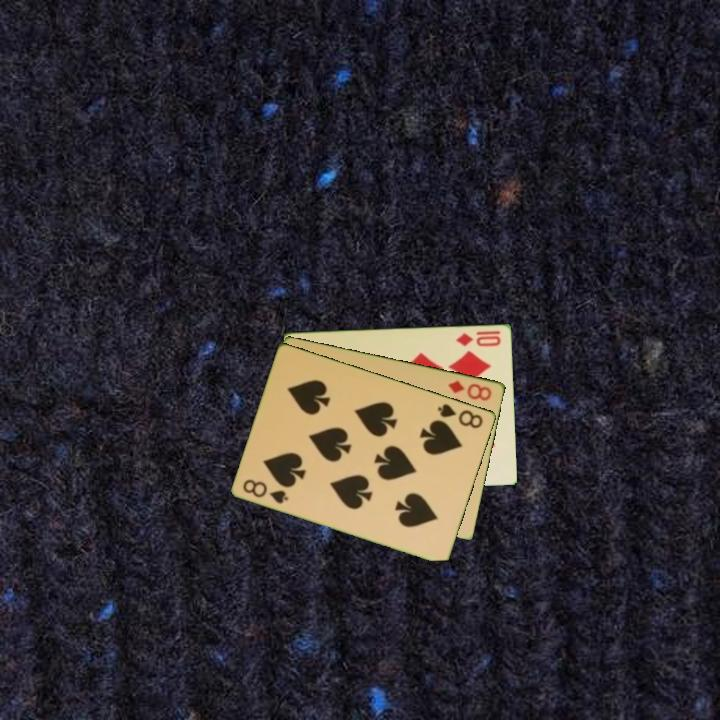10d: (453, 329, 504, 349)
8d: (445, 377, 495, 403)
8s: (240, 475, 292, 507), (434, 400, 486, 431)
